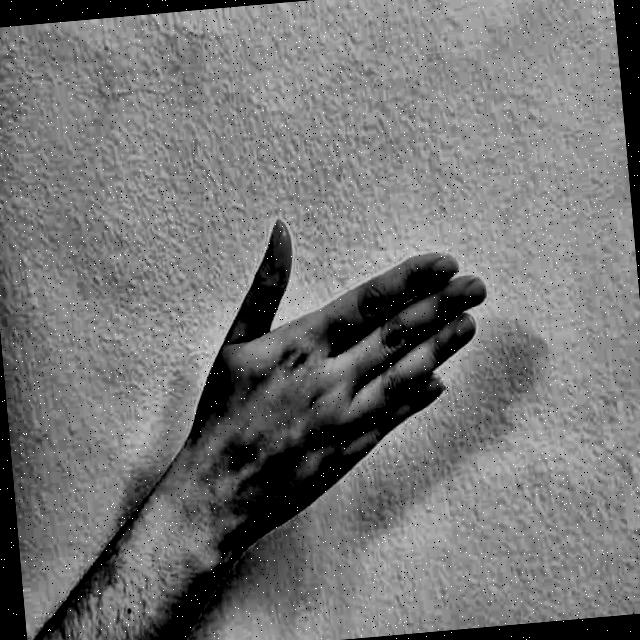Aa: (157, 124, 537, 571)
